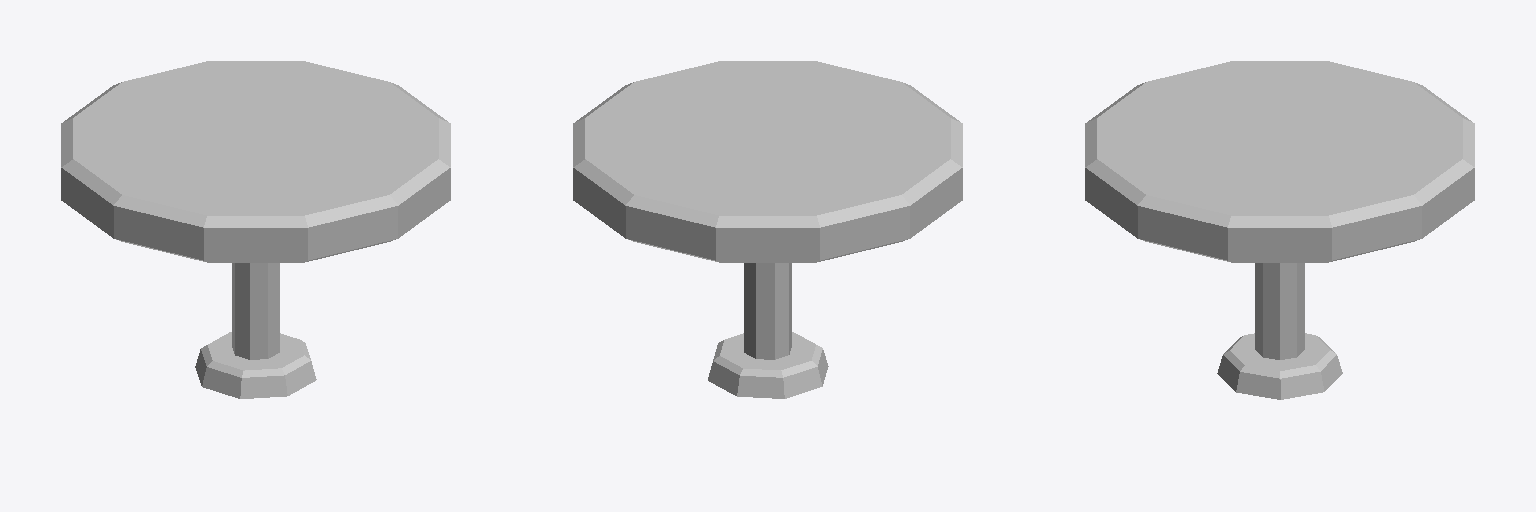
The model's file is table_round_B.obj.
The picture shows the model from 3 angles: view 1: azimuth 30°, elevation 25°; view 2: azimuth 150°, elevation 25°; view 3: azimuth 270°, elevation 25°; orthographic projection.
Parts seen in each view (by area): view 1: table_round_B; view 2: table_round_B; view 3: table_round_B.
Boxes of the visible parts, <box> form: table_round_B: <box>61,61,450,398</box>; table_round_B: <box>573,61,962,398</box>; table_round_B: <box>1085,61,1474,399</box>.
Bounding box in the file's own units: 1.5 × 1 × 1.5.